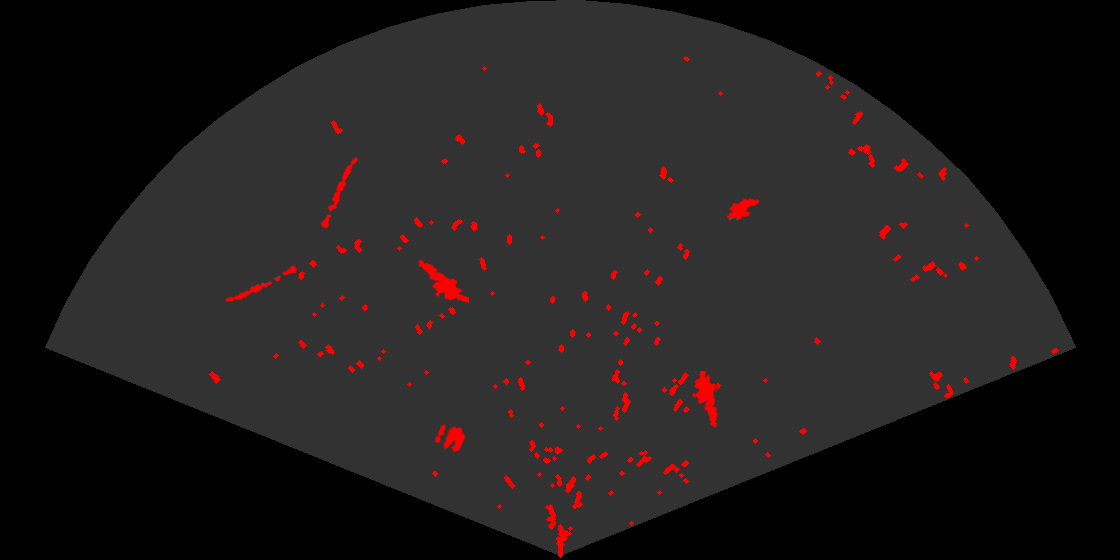AUV: (725, 197, 761, 222)
ball: (433, 422, 467, 454)
chain: (223, 262, 304, 304), (319, 155, 360, 232)
frogman: (416, 258, 469, 305), (690, 371, 719, 429)
